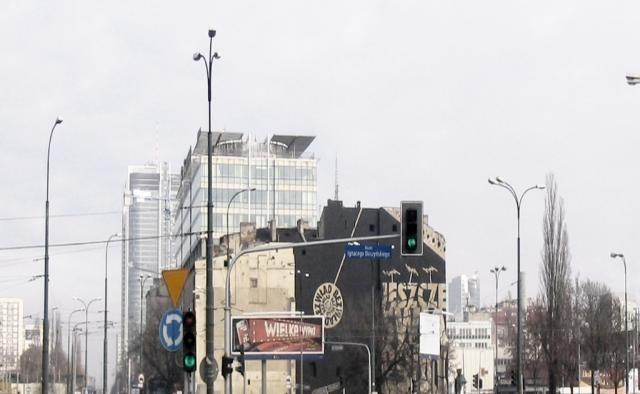green_light: (402, 201, 424, 256), (182, 311, 197, 373)
